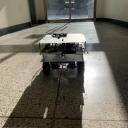cart: (38, 33, 87, 76)
